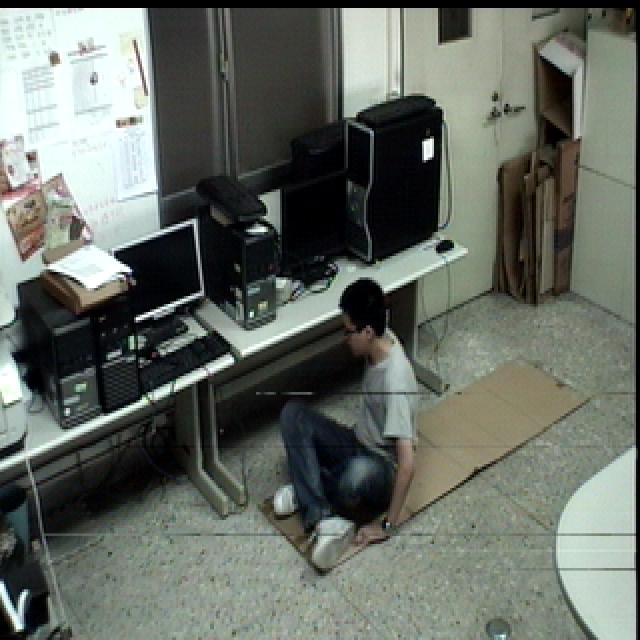sit: (266, 275, 433, 572)
